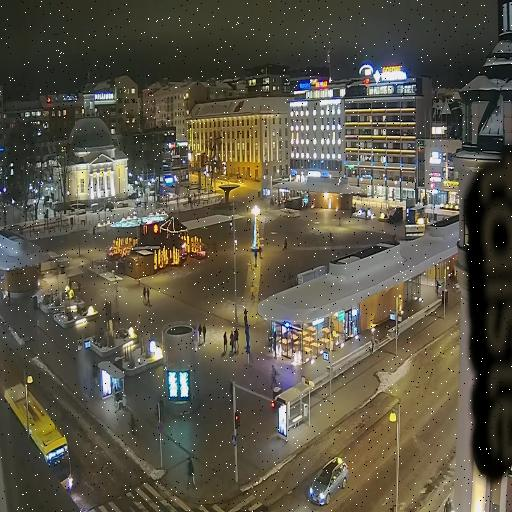Bus: (4, 384, 74, 490)
Car: (308, 457, 349, 505)
